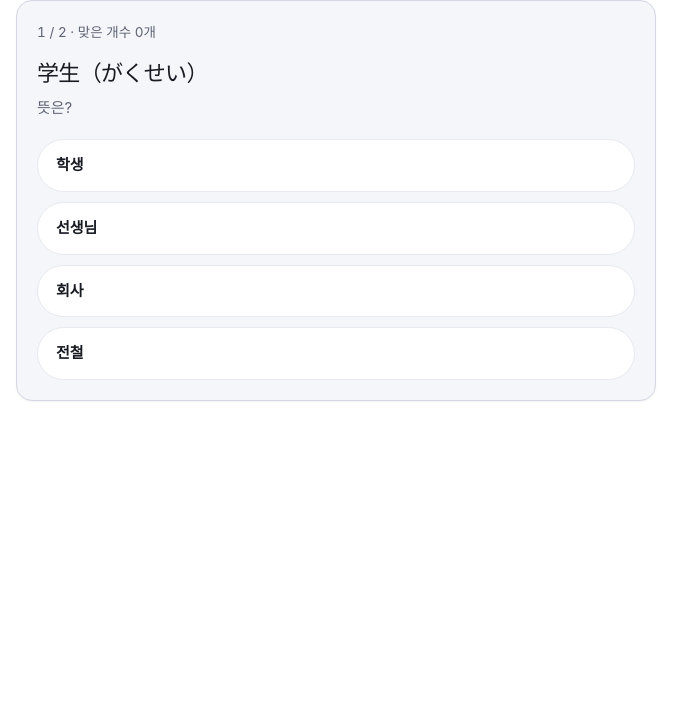
결과 화면 (Q13~Q17·Q23) › 마지막 문제를 채점하고 넘어가면 점수와 정오 목록이 보인다 (Q13·Q14)
The width and height of the screenshot is (673, 720).
Click the button "학생" at x=70, y=165, box [37,139,635,192]
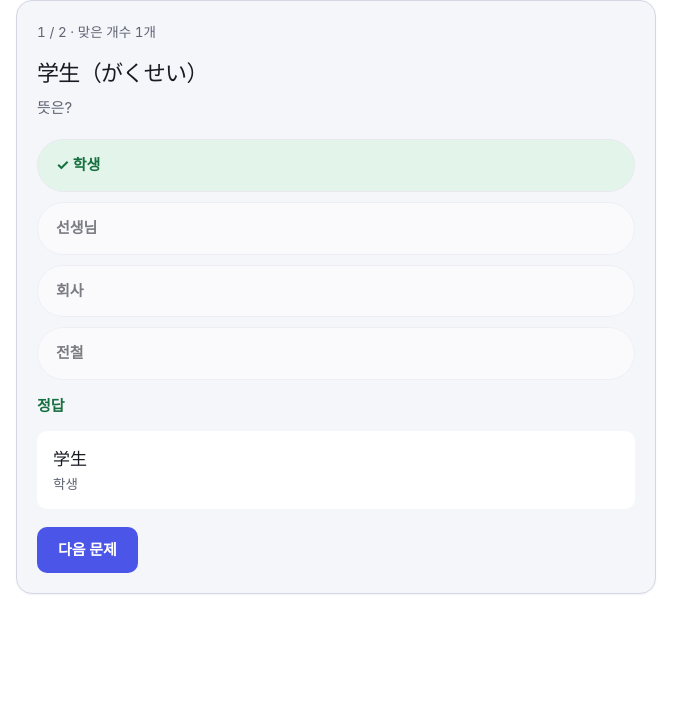
Click the button "다음 문제" at x=87, y=550, box [37,527,138,573]
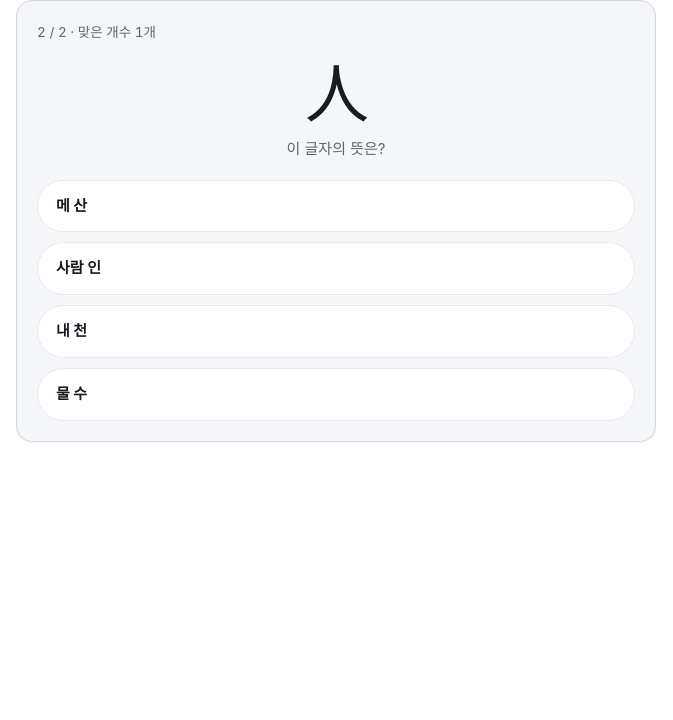
Click the button "사람 인" at x=78, y=268, box [37,242,635,295]
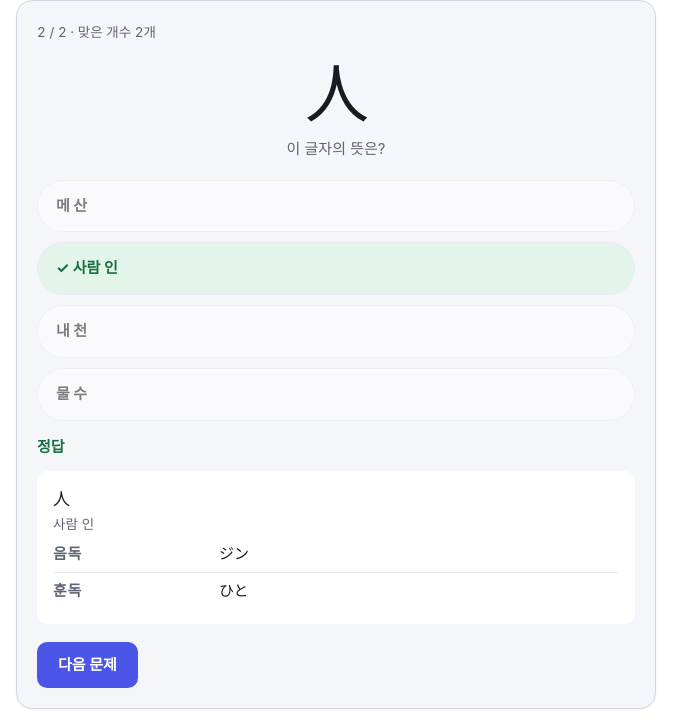
Click the button "다음 문제" at x=87, y=665, box [37,642,138,688]
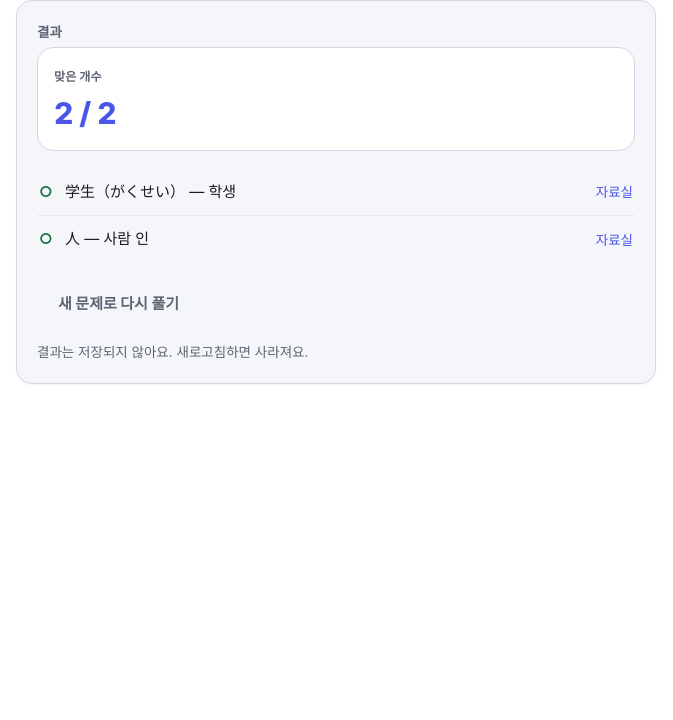
Expected: the text "2 / 2" is shown, [54,95,116,131]
Expected: the number of list items is 2, [37,168,635,216]; [39,229,633,248]
